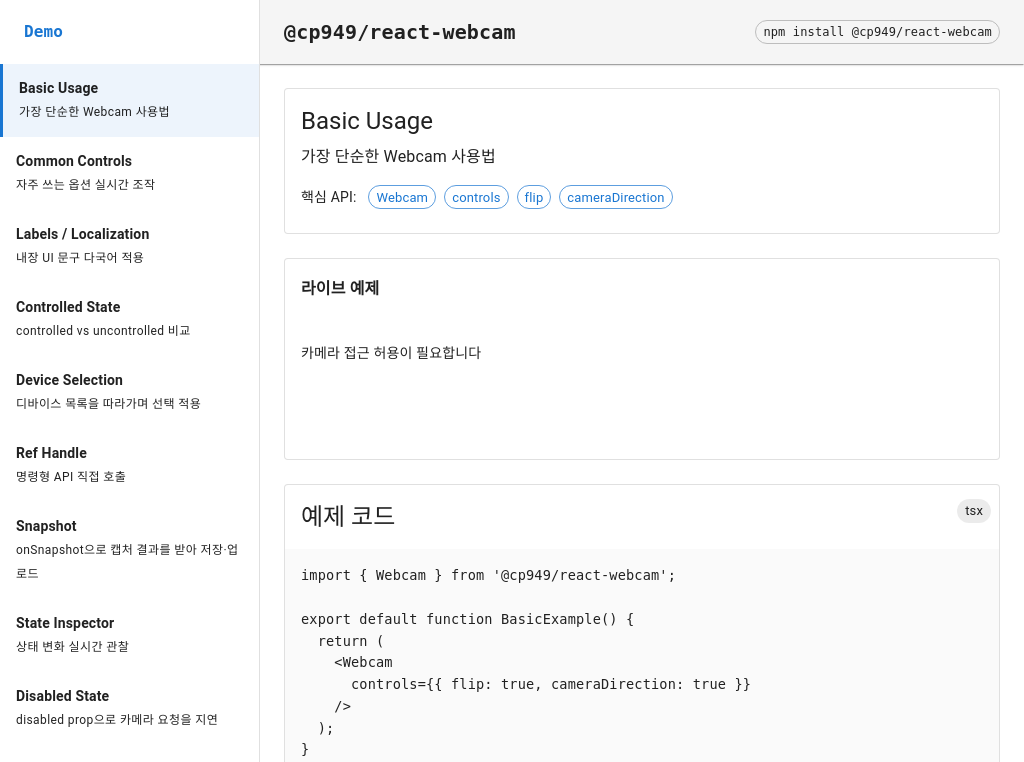
Test: demo disabled sections › renders the disabled state section from the sidebar
Click the text "Disabled State".
click(63, 696)  # box top-left (16, 688), bottom-right (109, 704)
(page scrolled)
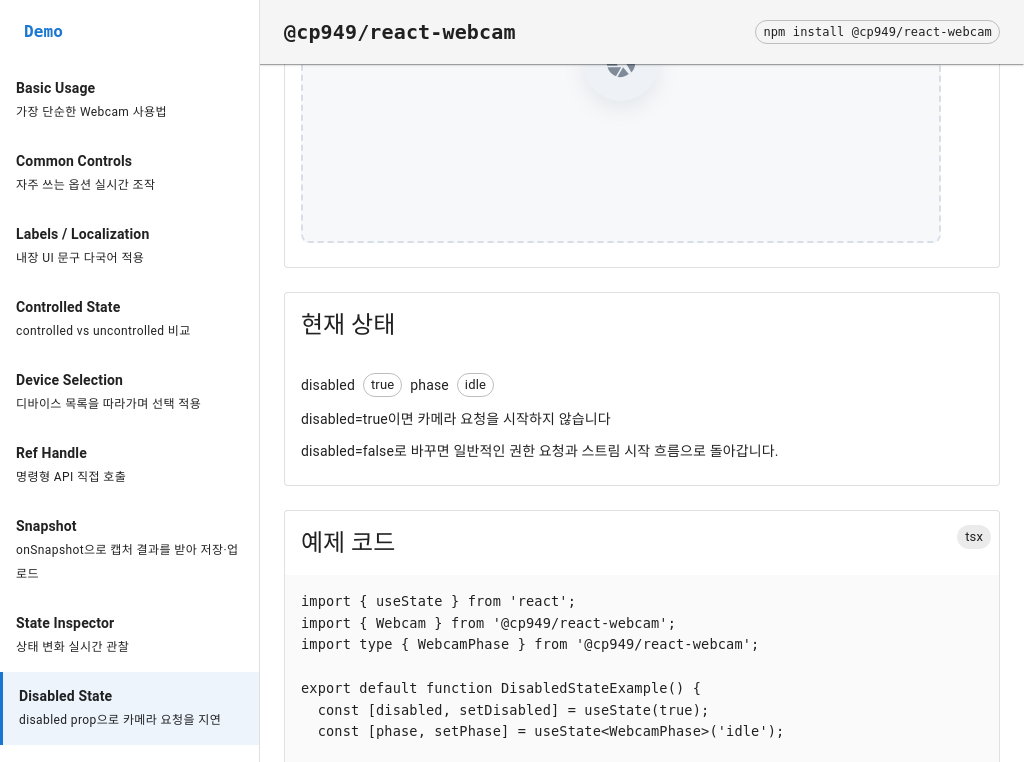
Result: the text "disabled=true이면 카메라 요청을 시작하지 않습니다" is shown at top-left (301, 411), bottom-right (611, 427)
Result: the text "phase" is shown at top-left (410, 375), bottom-right (449, 395)
